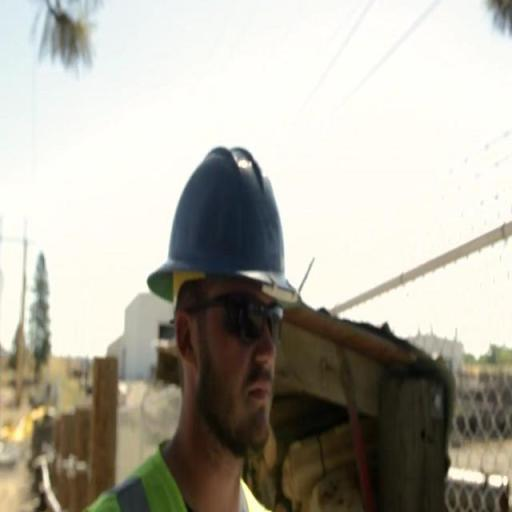helmet: (146, 136, 307, 322)
vest: (75, 439, 298, 512)
